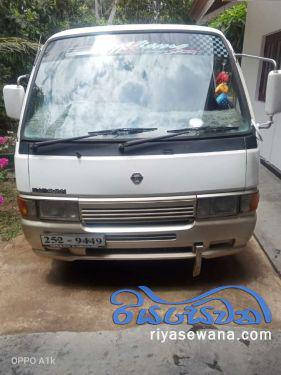van: (3, 22, 281, 270)
